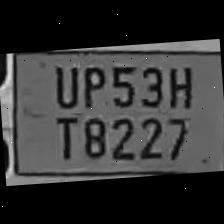2: (104, 112, 135, 162), (133, 110, 162, 160)
3: (134, 61, 164, 108)
5: (104, 59, 136, 108)
7: (160, 108, 191, 160)
8: (76, 111, 107, 160)
H: (161, 58, 195, 110)
P: (76, 59, 106, 108)
T: (48, 112, 79, 161)
U: (48, 60, 78, 110)
